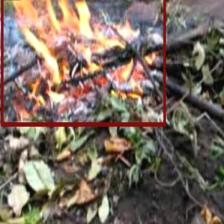fire: (0, 0, 165, 126)
